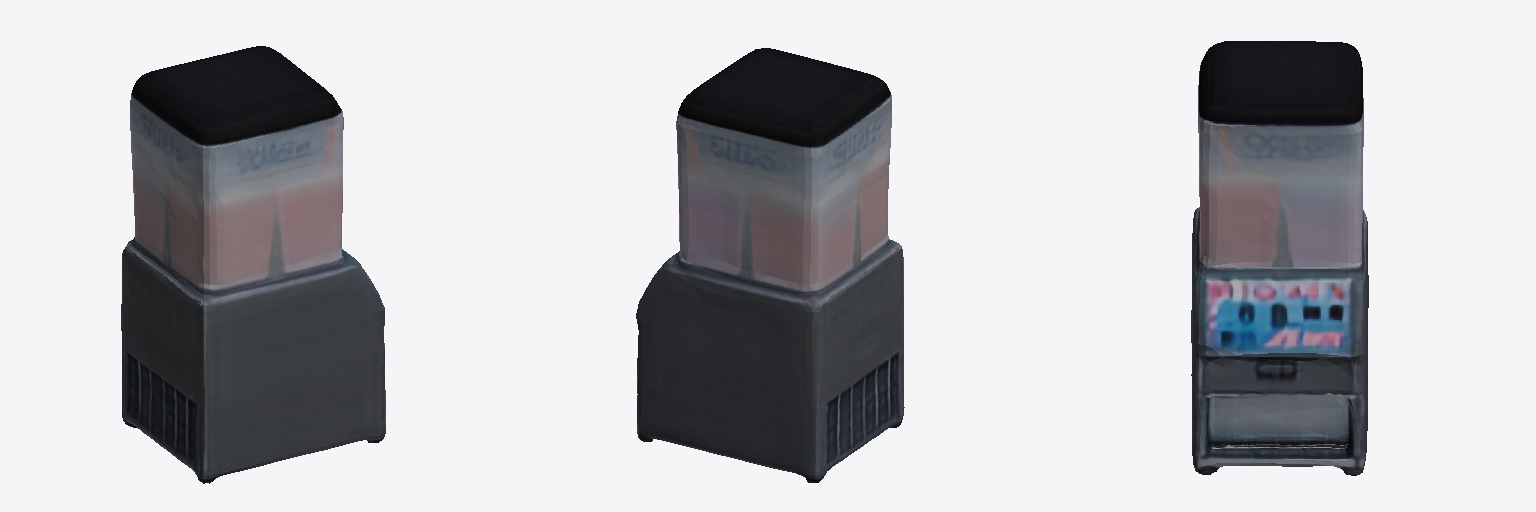
The picture shows the model from 3 angles: view 1: azimuth 30°, elevation 25°; view 2: azimuth 150°, elevation 25°; view 3: azimuth 270°, elevation 25°; orthographic projection.
Parts seen in each view (by area): view 1: slush:Mesh; view 2: slush:Mesh; view 3: slush:Mesh.
Part boxes in pixels (left/top/right/bottom): slush:Mesh: left=121, top=46, right=385, bottom=483; slush:Mesh: left=636, top=48, right=904, bottom=482; slush:Mesh: left=1191, top=41, right=1368, bottom=475.
Size of the model in its own units: 0.5617 by 0.9991 by 0.4509.
Materials: 1 (1 with a texture image).